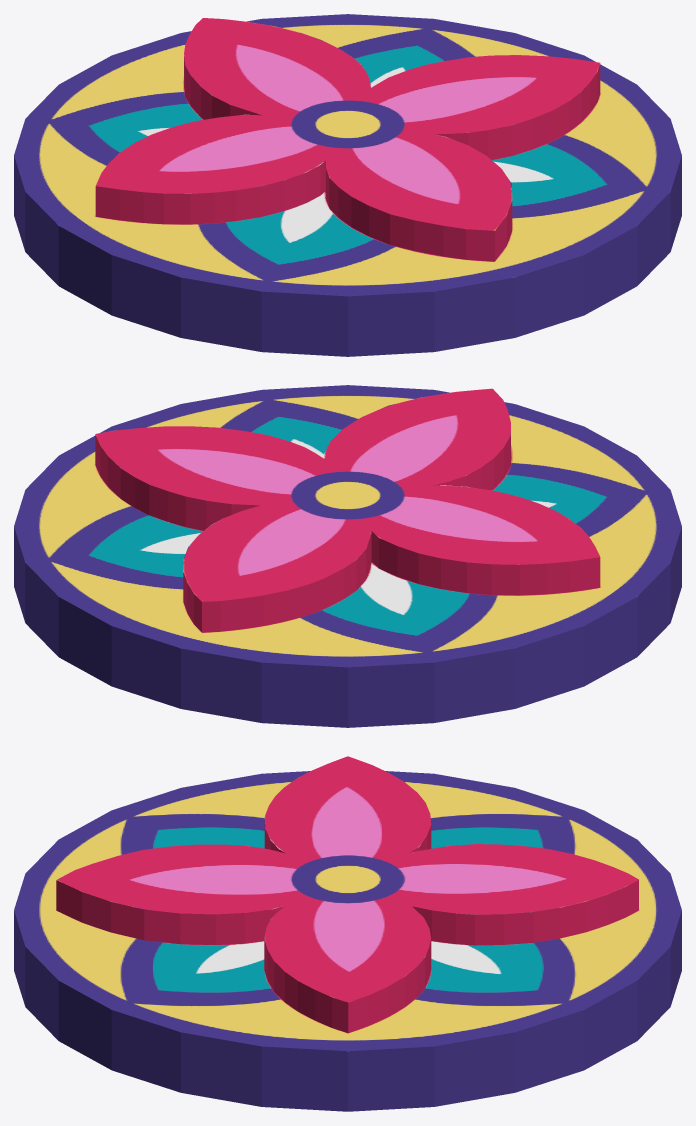
Rendered from flower_1.glb.
3 renders of one model, top to bottom at view 1: azimuth 30°, elevation 25°; view 2: azimuth 150°, elevation 25°; view 3: azimuth 270°, elevation 25°, orthographic.
Visible parts, largest first — view 1: Cylinder; view 2: Cylinder; view 3: Cylinder.
Part boxes in pixels (x1,y1,x2,y2): Cylinder: [14, 14, 681, 356]; Cylinder: [14, 385, 681, 727]; Cylinder: [14, 756, 681, 1111].
Size of the model in its own units: 3 by 0.4522 by 3.
1 material, 1 textured.
